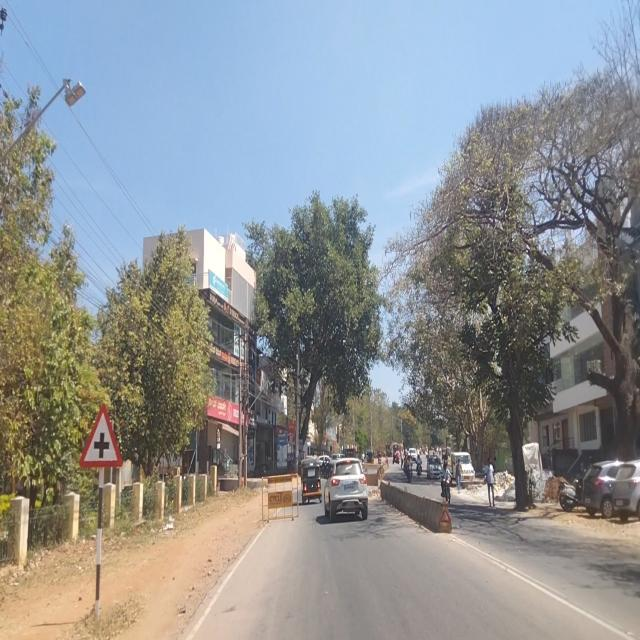bien_cam: (79, 400, 122, 469)
